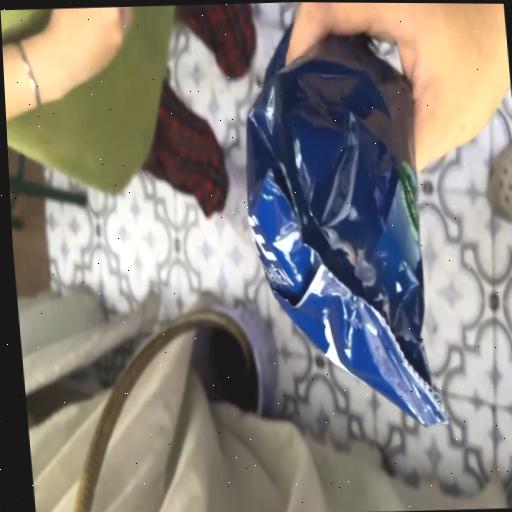cafe_hat: (246, 27, 446, 425)
